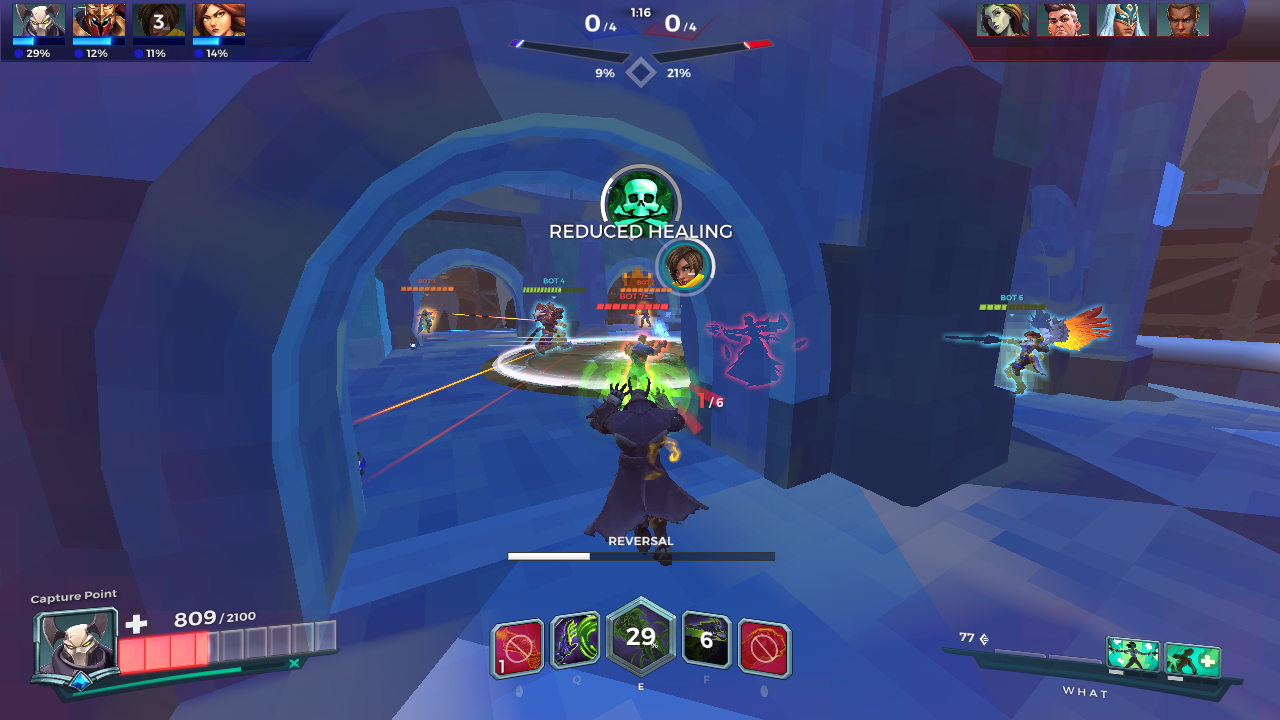model: (732, 307, 780, 388), (624, 322, 655, 390), (416, 303, 437, 333)
